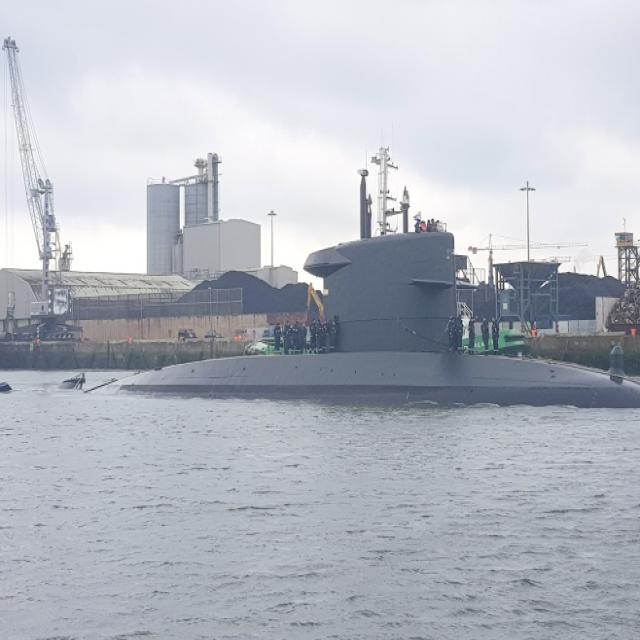submarine: (1, 167, 640, 413)
